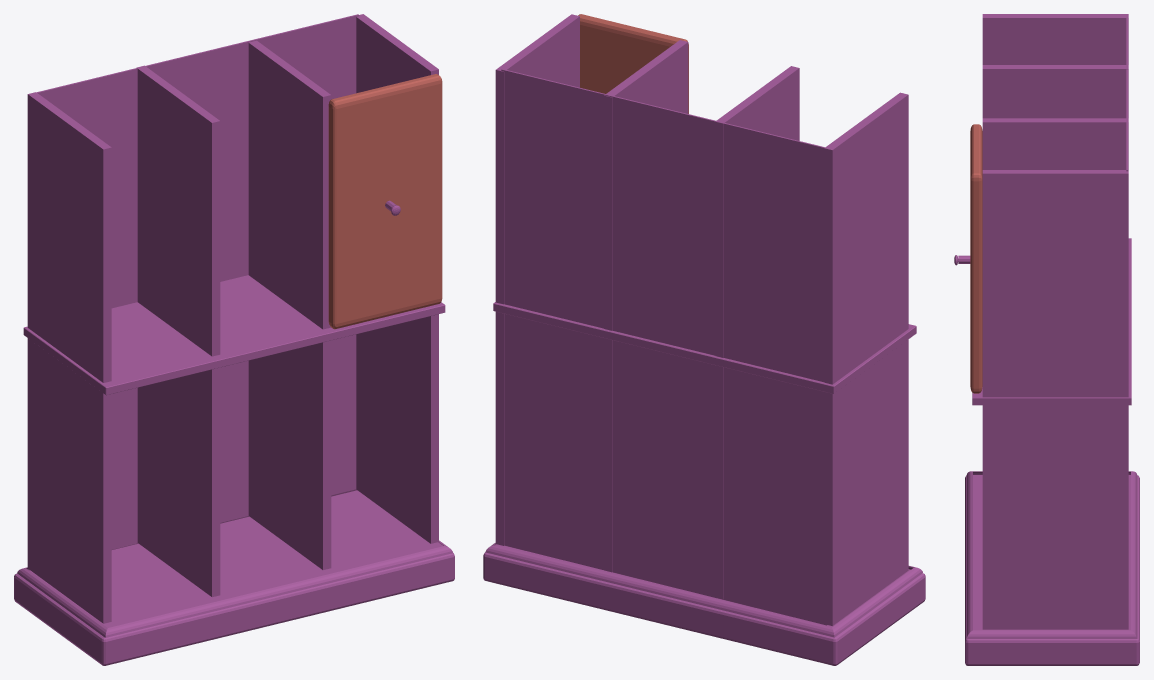
The model's file is commode_sized2.dae.
3 views of the same model, side by side, from view 1: azimuth 30°, elevation 25°; view 2: azimuth 150°, elevation 25°; view 3: azimuth 270°, elevation 25° (orthographic). The views are drawn at different scales.
Visible parts, largest first — view 1: Rectangle1, Rectangle0, ChamferB14, ChamferBox_ChamferBo0_ChamferBo1_ChamferBo2_ChamferBo3_Chamf, ChamferB11_ChamferB12_ChamferB13_ChamferB15, Loft05_Loft03_Loft06_Loft07_Loft04; view 2: Rectangle0, Rectangle1, ChamferB14, ChamferBox_ChamferBo0_ChamferBo1_ChamferBo2_ChamferBo3_Chamf, Loft05_Loft03_Loft06_Loft07_Loft04, ChamferB11_ChamferB12_ChamferB13_ChamferB15; view 3: Rectangle1, ChamferB14, Loft05_Loft03_Loft06_Loft07_Loft04, ChamferBox_ChamferBo0_ChamferBo1_ChamferBo2_ChamferBo3_Chamf, ChamferB11_ChamferB12_ChamferB13_ChamferB15, Rectangle0.
Part boxes in pixels (box(x1,y1,x2,y2)): Rectangle1: box(27, 14, 438, 623); Rectangle0: box(37, 14, 359, 549); ChamferB14: box(14, 492, 454, 665); ChamferBox_ChamferBo0_ChamferBo1_ChamferBo2_ChamferBo3_Chamf: box(328, 74, 442, 329); ChamferB11_ChamferB12_ChamferB13_ChamferB15: box(23, 275, 445, 395); Loft05_Loft03_Loft06_Loft07_Loft04: box(17, 489, 452, 637); Rectangle0: box(501, 69, 827, 625); Rectangle1: box(495, 14, 908, 625); ChamferB14: box(483, 545, 925, 665); ChamferBox_ChamferBo0_ChamferBo1_ChamferBo2_ChamferBo3_Chamf: box(578, 14, 688, 113); Loft05_Loft03_Loft06_Loft07_Loft04: box(485, 543, 922, 637); ChamferB11_ChamferB12_ChamferB13_ChamferB15: box(493, 302, 916, 393); Rectangle1: box(982, 14, 1128, 629); ChamferB14: box(965, 475, 1139, 665); Loft05_Loft03_Loft06_Loft07_Loft04: box(966, 471, 1137, 638); ChamferBox_ChamferBo0_ChamferBo1_ChamferBo2_ChamferBo3_Chamf: box(970, 124, 982, 393); ChamferB11_ChamferB12_ChamferB13_ChamferB15: box(972, 238, 1131, 405); Rectangle0: box(1126, 18, 1128, 171).
Bounding box in the file's own units: 1.36 × 0.6398 × 1.87.
